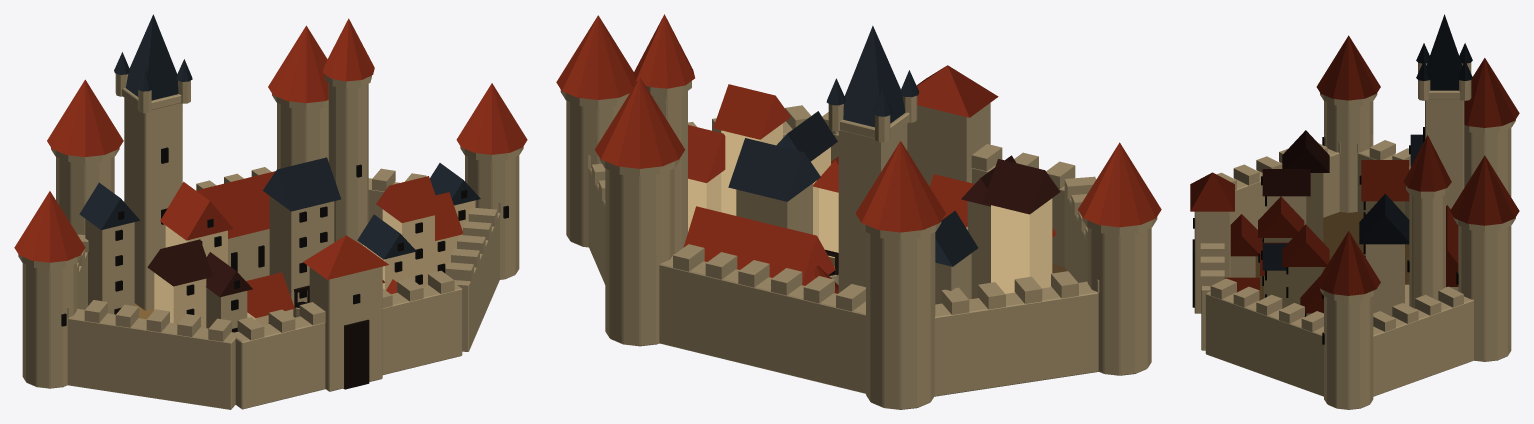
The model's file is settle_3_3.obj.
3 renders of one model, left to right at view 1: azimuth 30°, elevation 25°; view 2: azimuth 150°, elevation 25°; view 3: azimuth 270°, elevation 25°, orthographic. The views are drawn at different scales.
Visible parts, largest first — view 1: core_stone, core_roof_civic, core_roof_tile, core_roof_slate, core_plaster, core_roof_tile_old, core_slate, core_window, core_wood_dark; view 2: core_stone, core_roof_civic, core_plaster, core_roof_slate, core_roof_tile, core_slate, core_roof_tile_old; view 3: core_stone, core_roof_civic, core_roof_tile, core_plaster, core_roof_slate, core_roof_tile_old, core_slate, core_cloth, core_window.
Part boxes in pixels (x1,y1,x2,y2): core_stone: (18,73,523,409); core_roof_civic: (14,18,527,279); core_roof_tile: (160,176,462,318); core_roof_slate: (79,157,480,259); core_plaster: (154,200,475,327); core_roof_tile_old: (147,239,252,297); core_slate: (114,14,192,100); core_window: (61,147,508,332); core_wood_dark: (114,285,369,389); core_stone: (560,81,1157,409); core_roof_civic: (556,14,1161,293); core_plaster: (688,123,1052,293); core_roof_slate: (728,111,978,266); core_roof_tile: (688,84,1055,237); core_slate: (826,25,918,127); core_roof_tile_old: (961,155,1060,214); core_stone: (1194,62,1515,409); core_roof_civic: (1190,35,1519,295); core_roof_tile: (1224,160,1409,313); core_plaster: (1264,173,1404,315); core_roof_slate: (1262,134,1423,309); core_roof_tile_old: (1262,130,1329,196); core_slate: (1416,14,1472,90); core_cloth: (1255,212,1409,300); core_window: (1193,127,1458,344).
Size of the model in its own units: 1.87 by 1.02 by 1.17.
